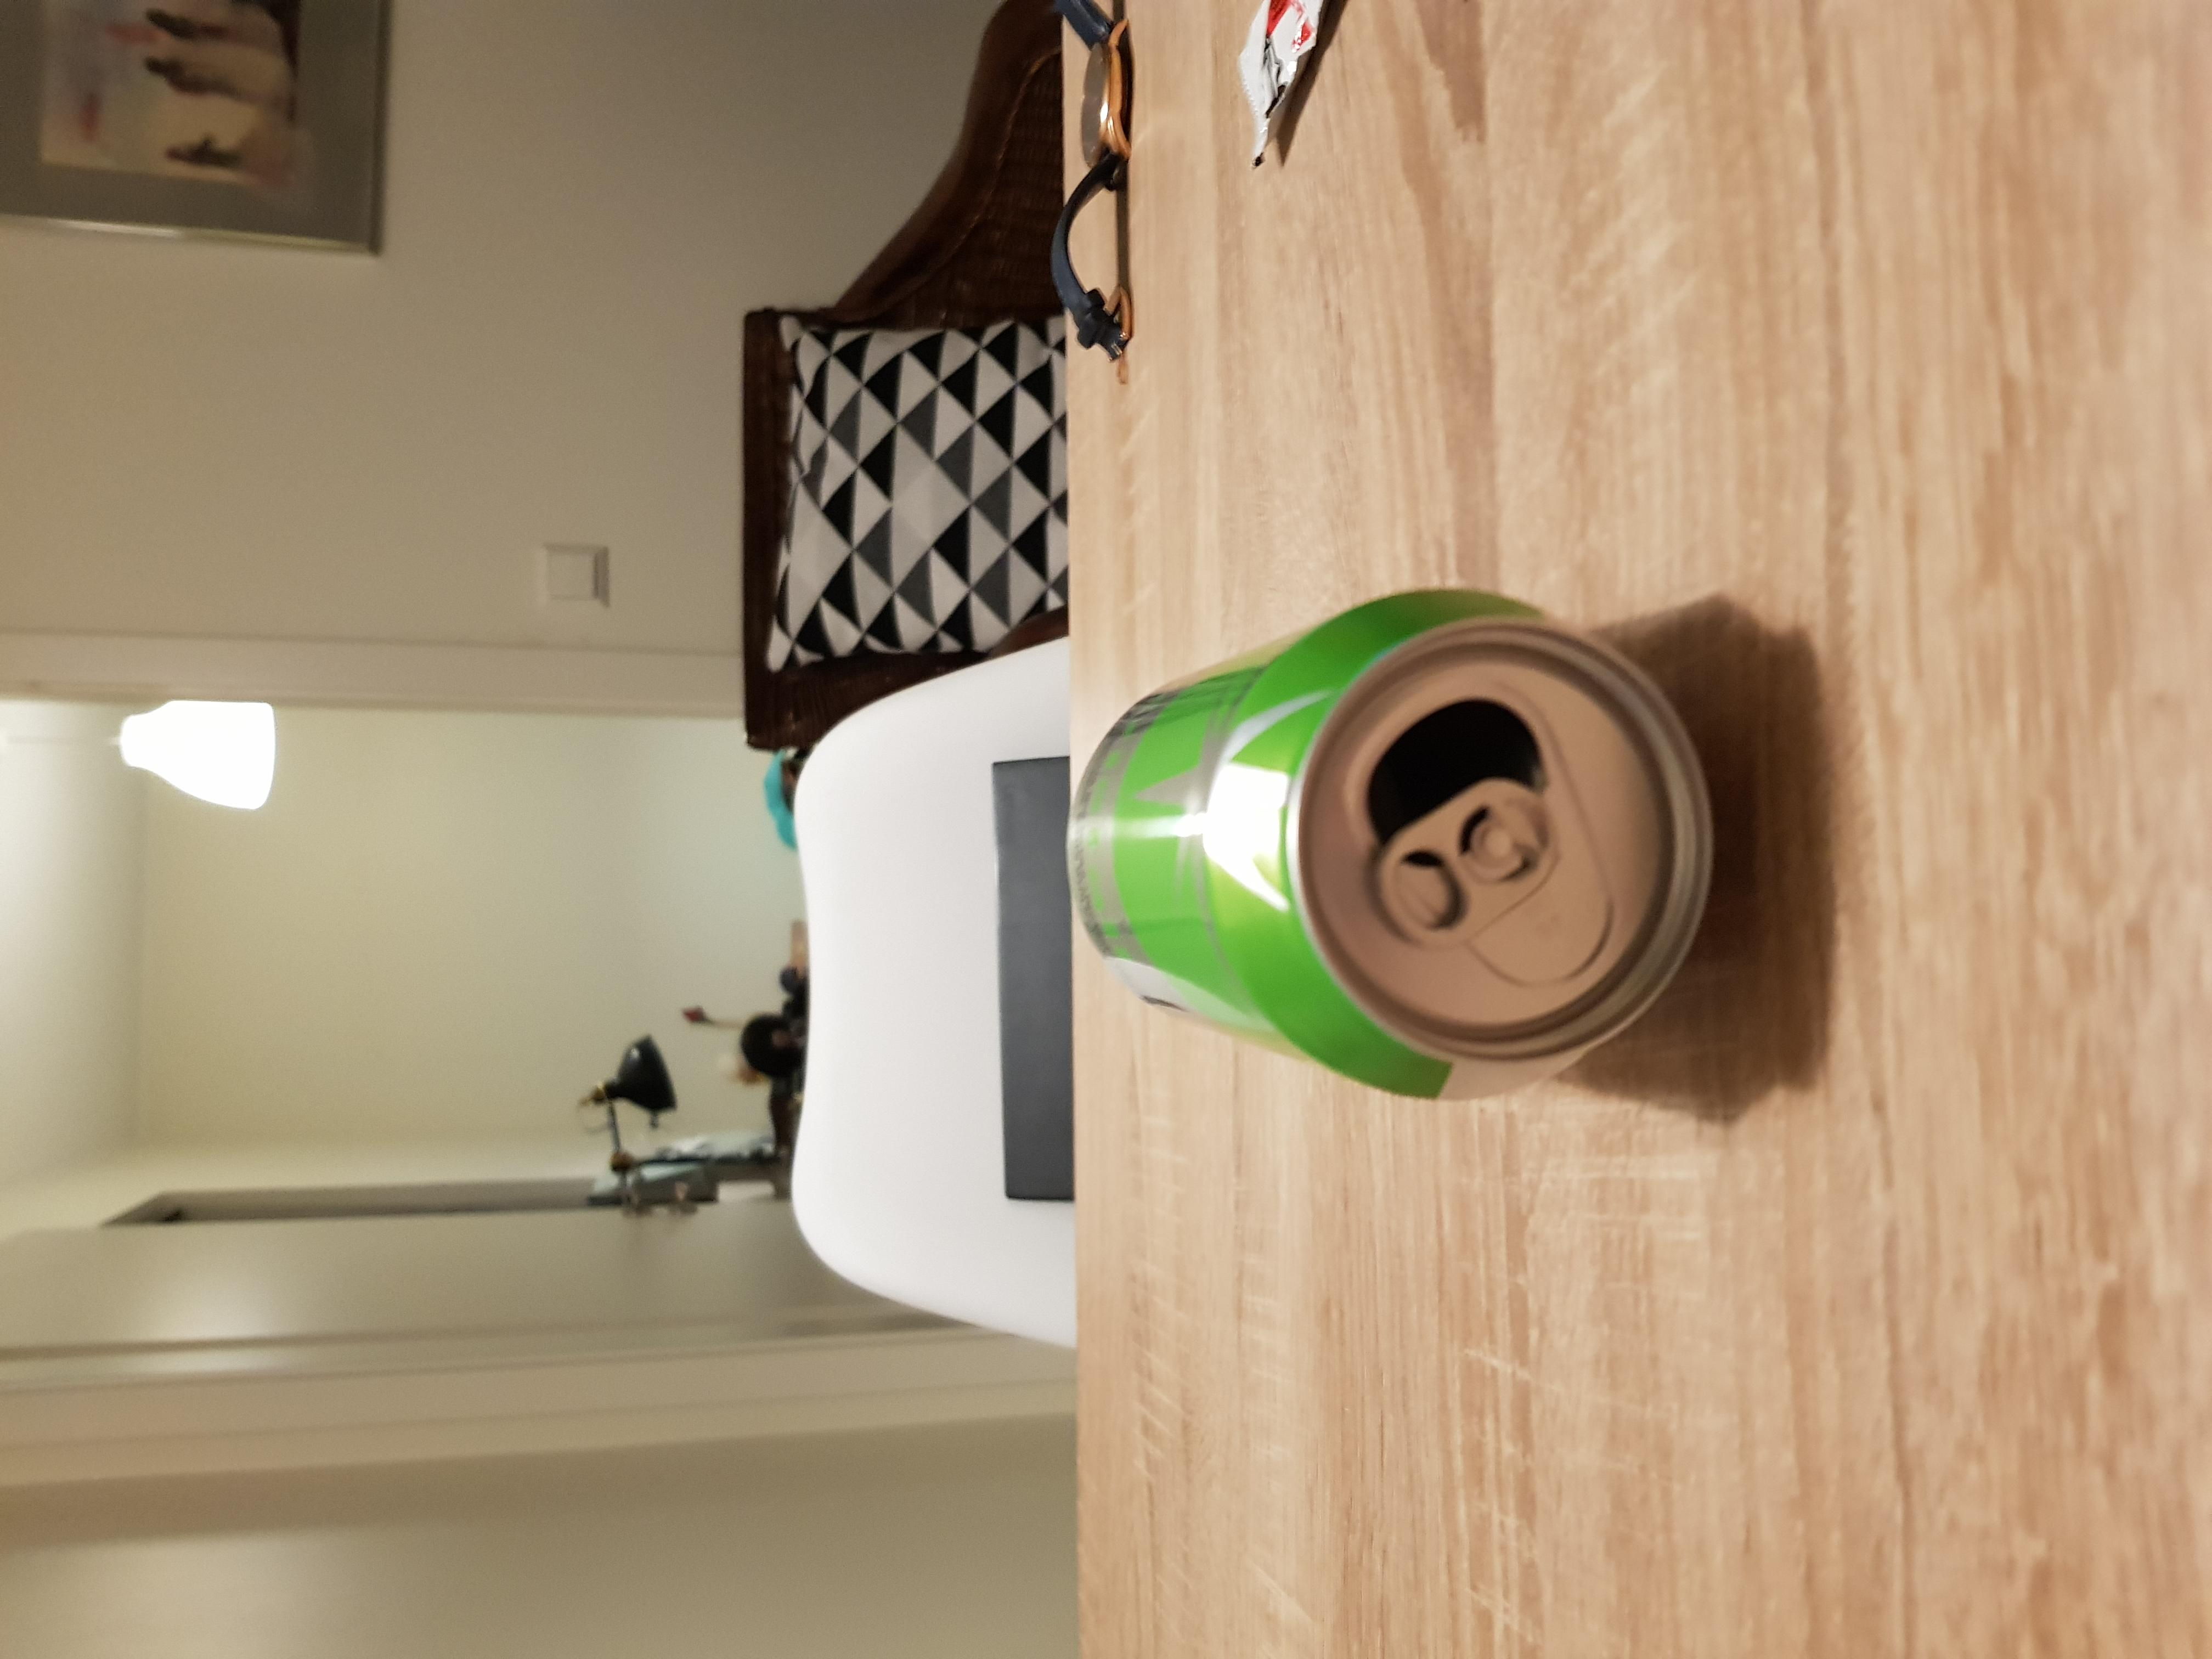can: (1050, 577, 1716, 1112)
